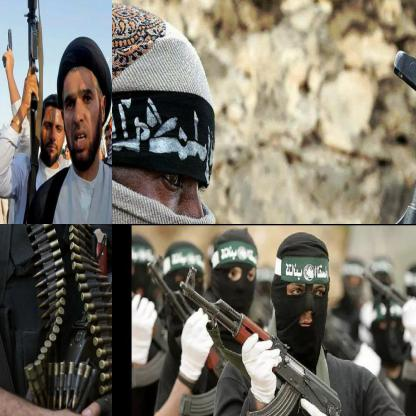pistol: (0, 27, 17, 76)
rifle: (177, 263, 359, 415), (325, 45, 415, 223), (37, 224, 111, 415), (143, 254, 229, 380), (23, 0, 50, 122), (105, 52, 111, 100)
